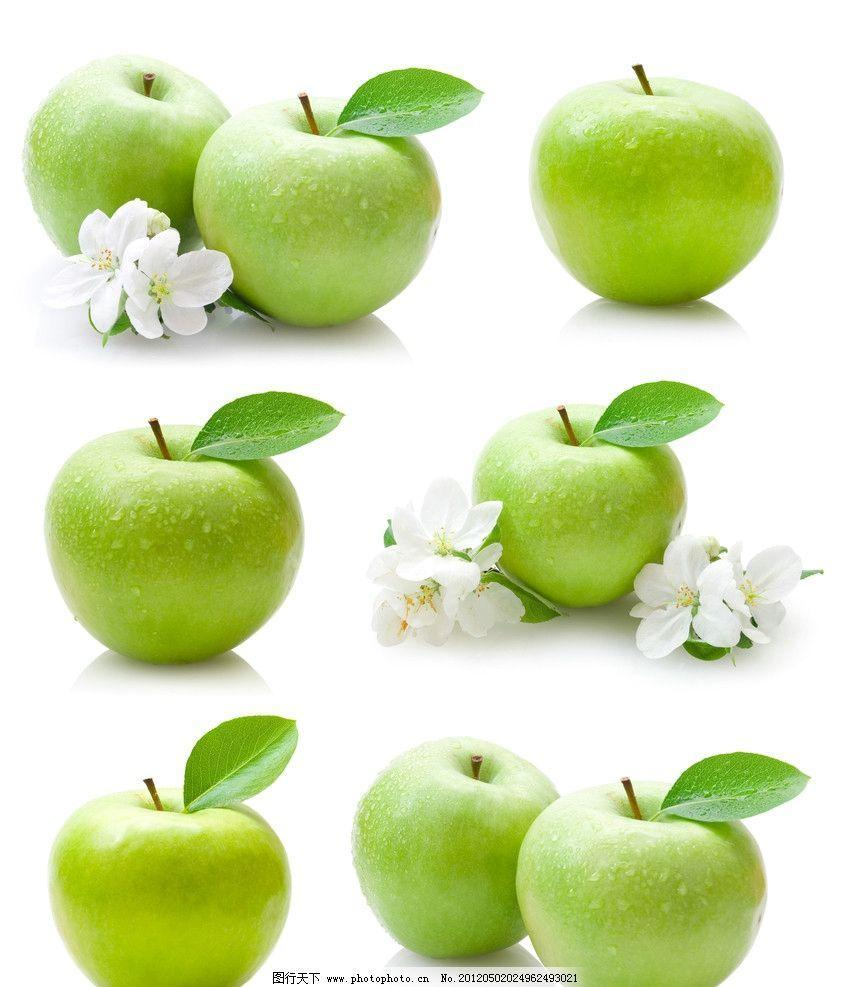apple: (40, 422, 303, 669), (526, 66, 782, 313), (194, 86, 443, 330), (45, 774, 292, 983), (514, 780, 767, 983), (348, 736, 564, 960), (473, 399, 691, 614), (22, 56, 232, 259)
